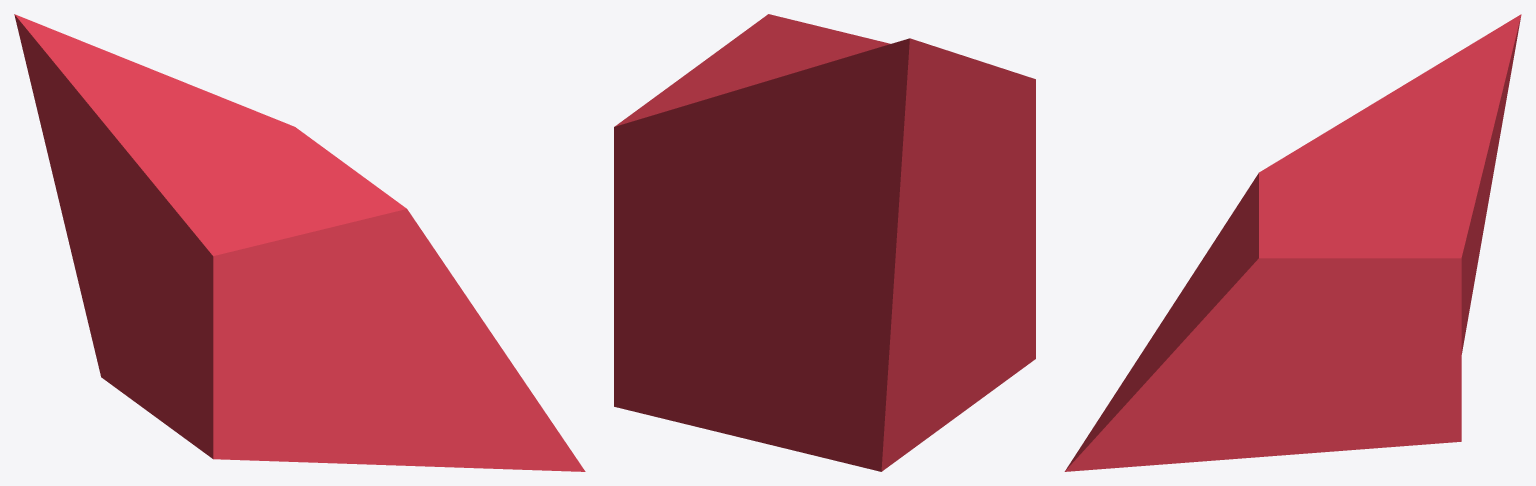
File: random.gltf
The picture shows the model from 3 angles, left to right: view 1: azimuth 30°, elevation 25°; view 2: azimuth 150°, elevation 25°; view 3: azimuth 270°, elevation 25°; orthographic projection. The views are drawn at different scales.
Visible parts, largest first — view 1: Cube; view 2: Cube; view 3: Cube.
Boxes of the visible parts, box(x1,y1,x2,y2) form: Cube: box(14, 14, 585, 471); Cube: box(614, 14, 1035, 471); Cube: box(1064, 14, 1521, 471).
Bounding box in the file's own units: 3.29 × 3.47 × 4.51.
